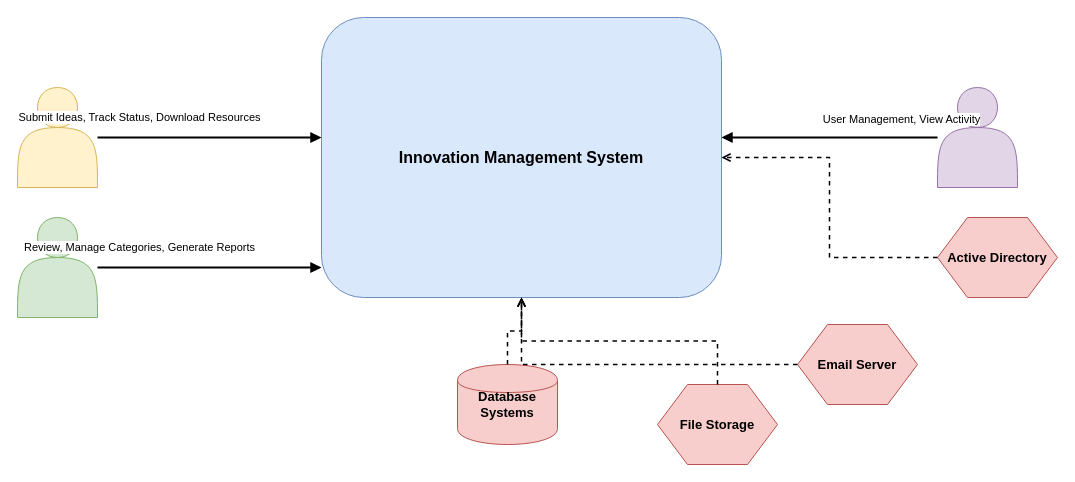
This 1075x482 diagram has some shape labels left out. The shapes that lost their labels are listed below. From the top down, each one's centre as x and y in pixels, then its label:
At (x=57, y=137): "Staff User".
At (x=977, y=137): "IT Administrator".
At (x=57, y=267): "Innovation Team".
